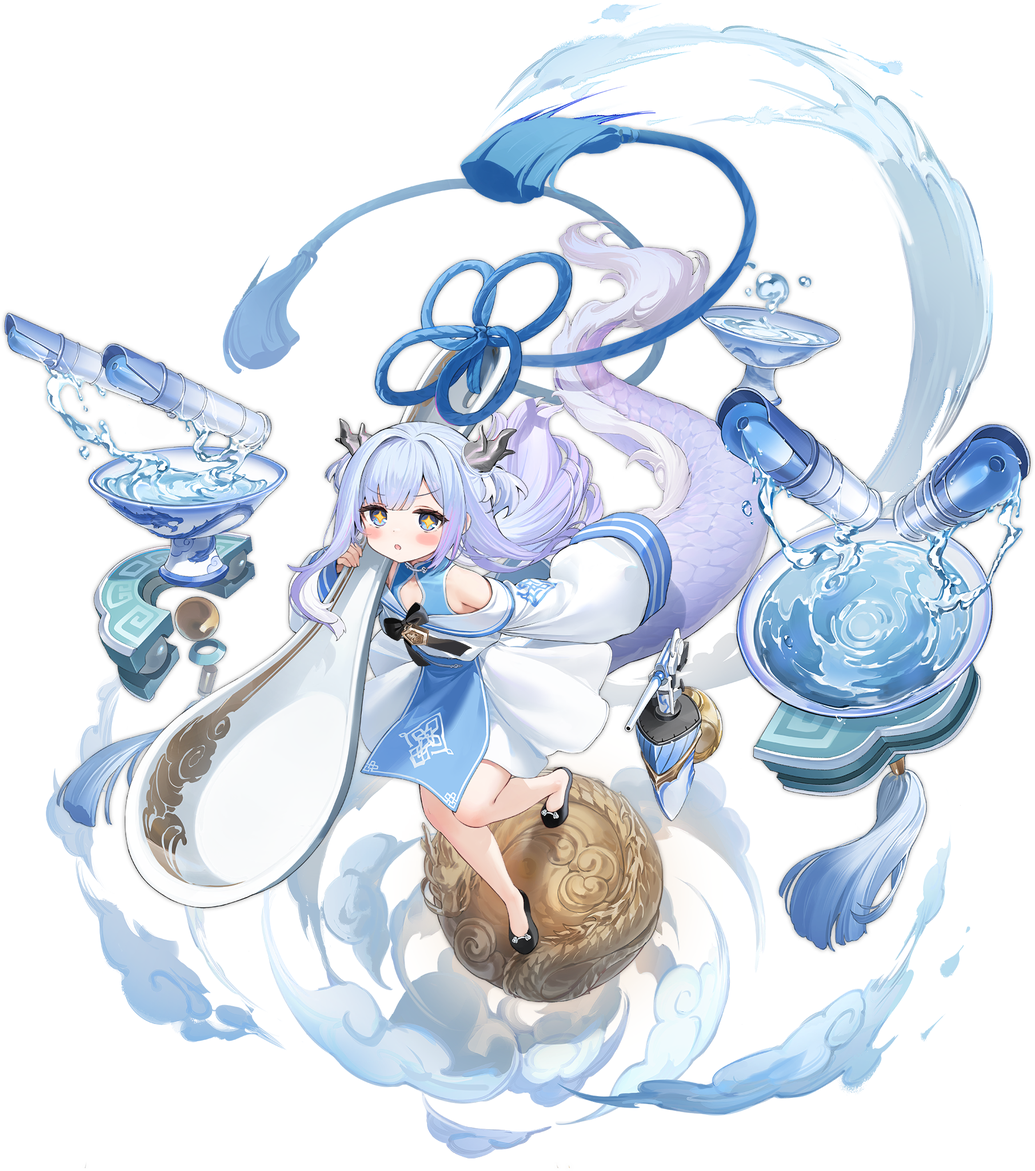person: (1, 84, 972, 1165)
